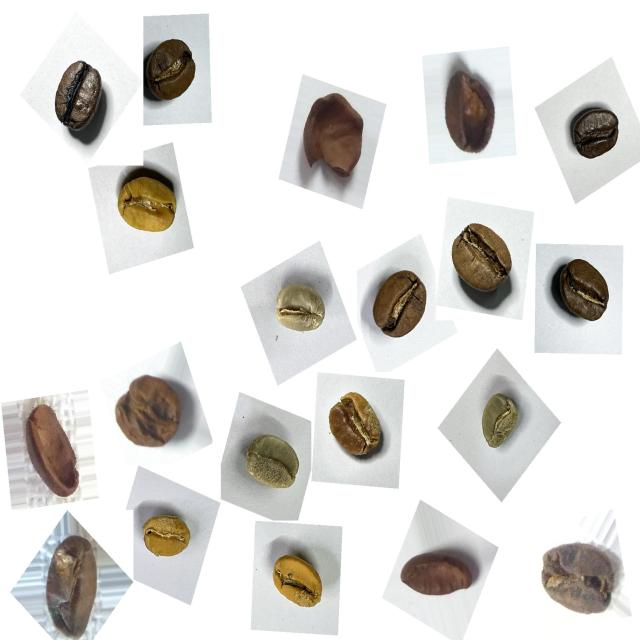bad: (291, 81, 375, 193), (531, 530, 624, 628), (32, 524, 112, 637), (16, 393, 93, 508), (106, 366, 190, 462), (435, 58, 509, 166), (394, 531, 481, 613)
dark: (42, 51, 116, 148), (564, 97, 632, 174)
green: (238, 422, 310, 506), (264, 272, 334, 350), (468, 384, 530, 461)
light: (105, 164, 186, 251), (319, 384, 394, 474), (262, 542, 332, 622), (138, 506, 202, 574)
medium: (440, 209, 524, 312), (363, 262, 439, 352), (547, 250, 621, 336), (139, 29, 208, 116)
